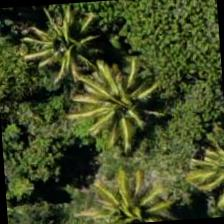Kelapa_Sawit: (72, 54, 168, 150), (13, 0, 108, 88), (79, 166, 174, 223)
